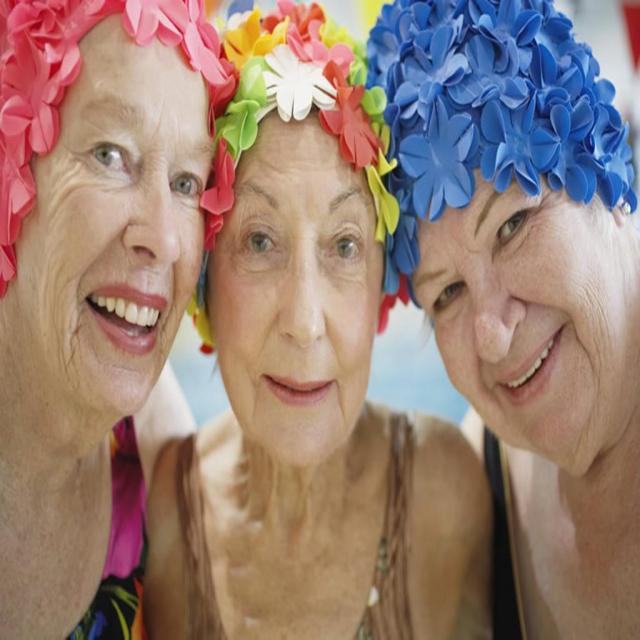Face: (32, 11, 216, 441), (415, 124, 635, 477), (218, 90, 383, 467)
